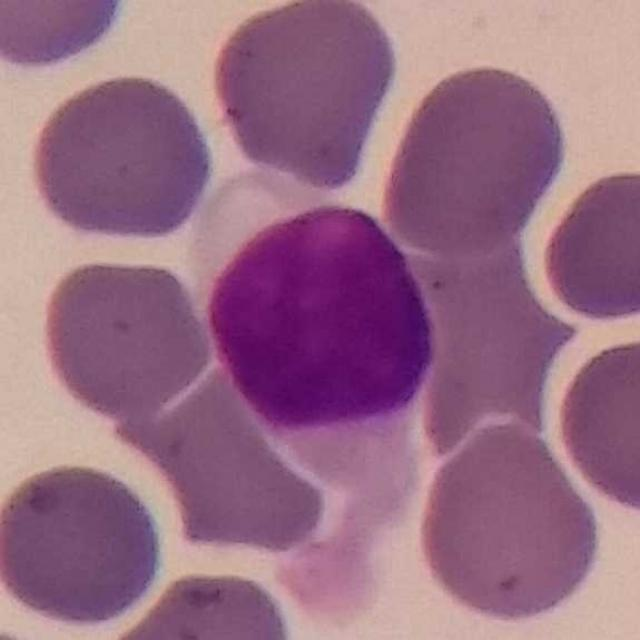Lymphocyte: (191, 162, 441, 616)
RBC: (410, 416, 608, 629), (376, 57, 572, 259), (205, 0, 404, 196), (22, 67, 220, 248), (154, 369, 335, 560), (35, 252, 217, 420), (0, 456, 169, 634), (535, 162, 640, 328), (551, 329, 640, 520), (103, 564, 300, 640), (0, 0, 137, 77)
